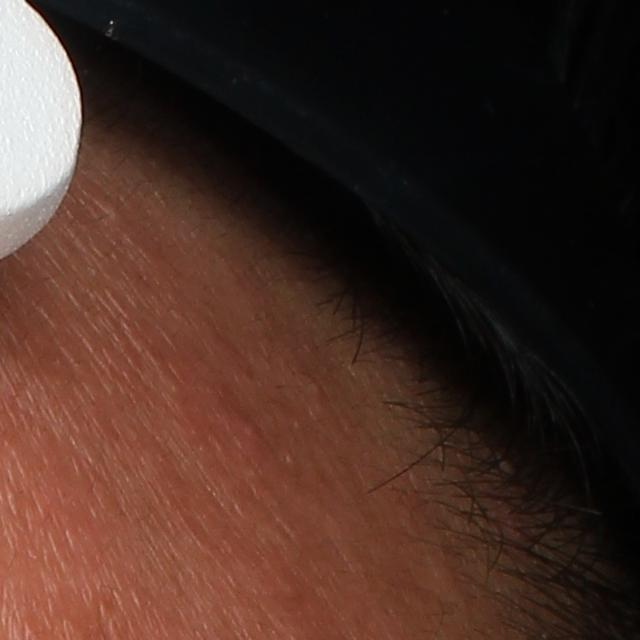papule: (230, 413, 267, 448)
